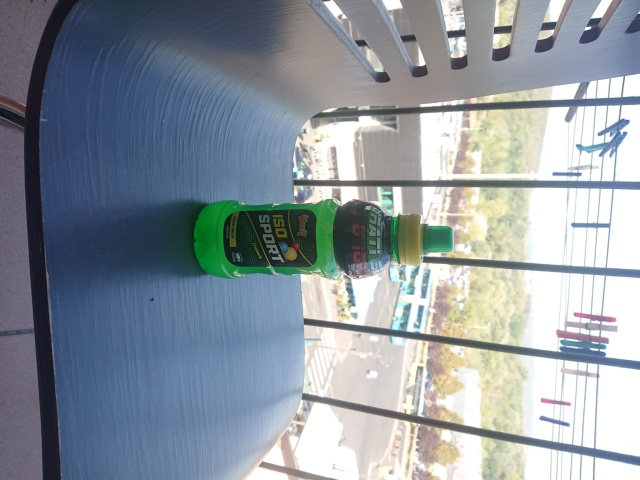Vindi Iso Sport Lemon-Grapefruit 500mL: (190, 196, 457, 282)
